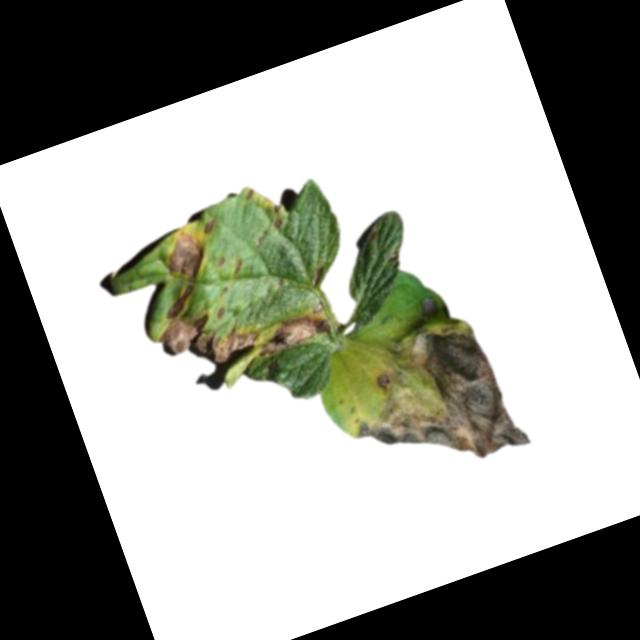Early_blight: (328, 311, 532, 500), (151, 294, 263, 380), (140, 225, 223, 320), (252, 306, 335, 360), (415, 293, 442, 321), (304, 263, 331, 290), (197, 217, 219, 239)
